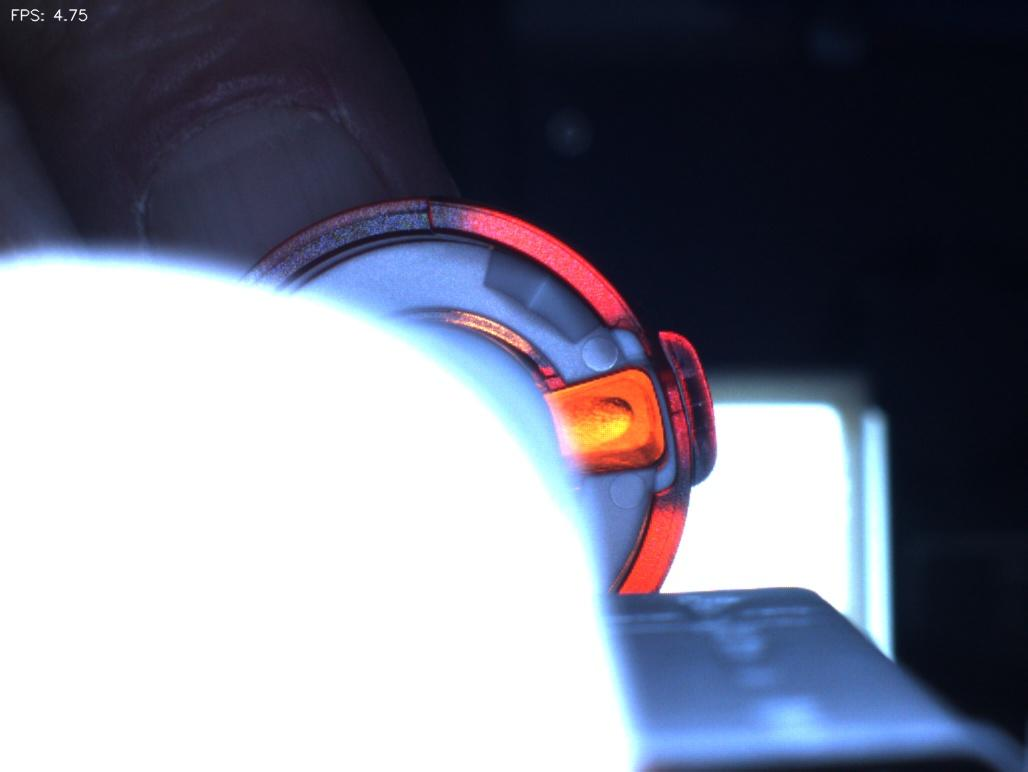Retassure: (554, 386, 643, 460)
